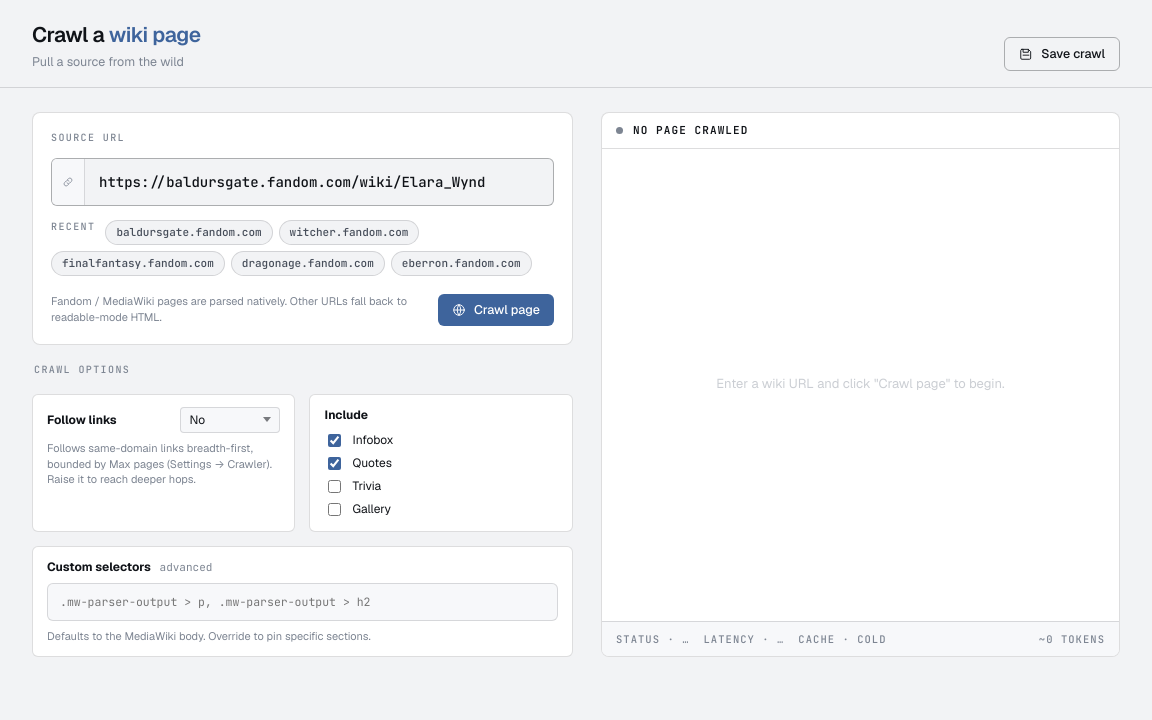
Test: CrawlerScreen › sets URL when clicking a recent wiki chip
This screenshot has width=1152, height=720.
Click the button "witcher.fandom.com". click: (349, 232)
box: [279,220,419,245]
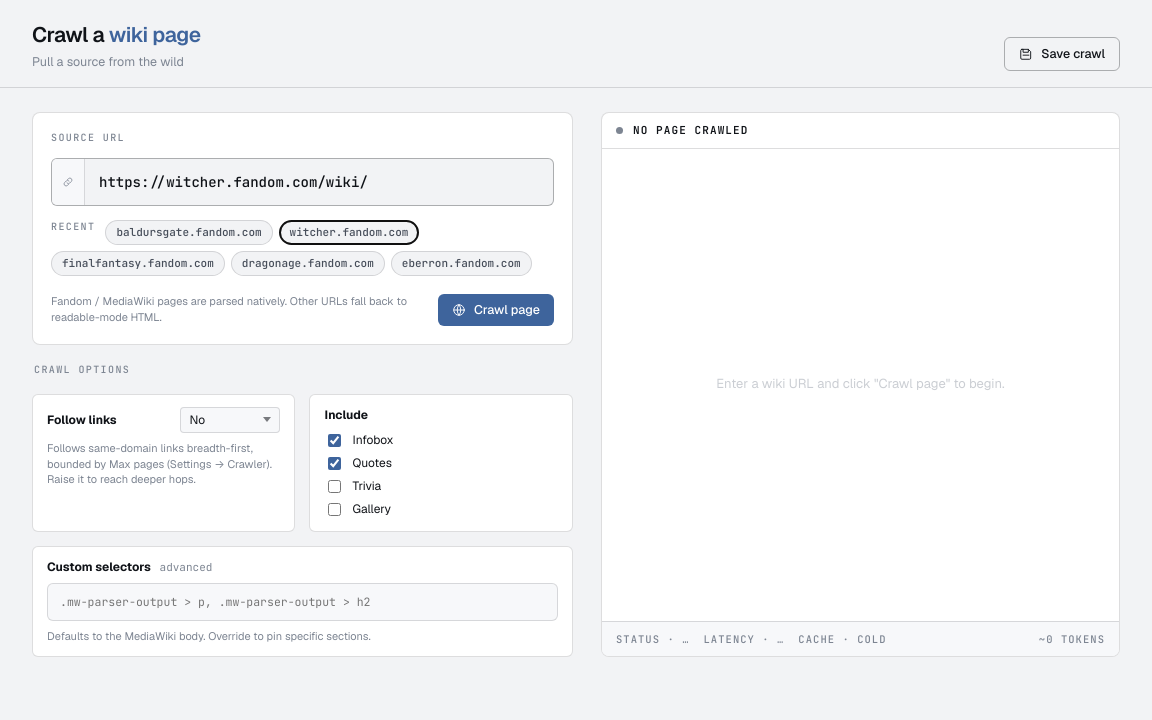
Result: the field with placeholder "https://wiki.fandom.com/wiki/Page_name" holds "https://witcher.fandom.com/wiki/" at [85,159,553,205]
